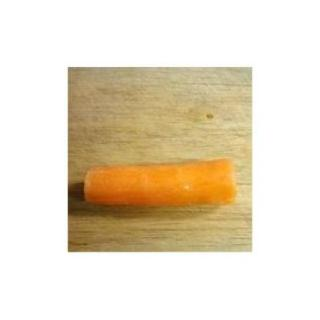carrot: (76, 148, 248, 224)
